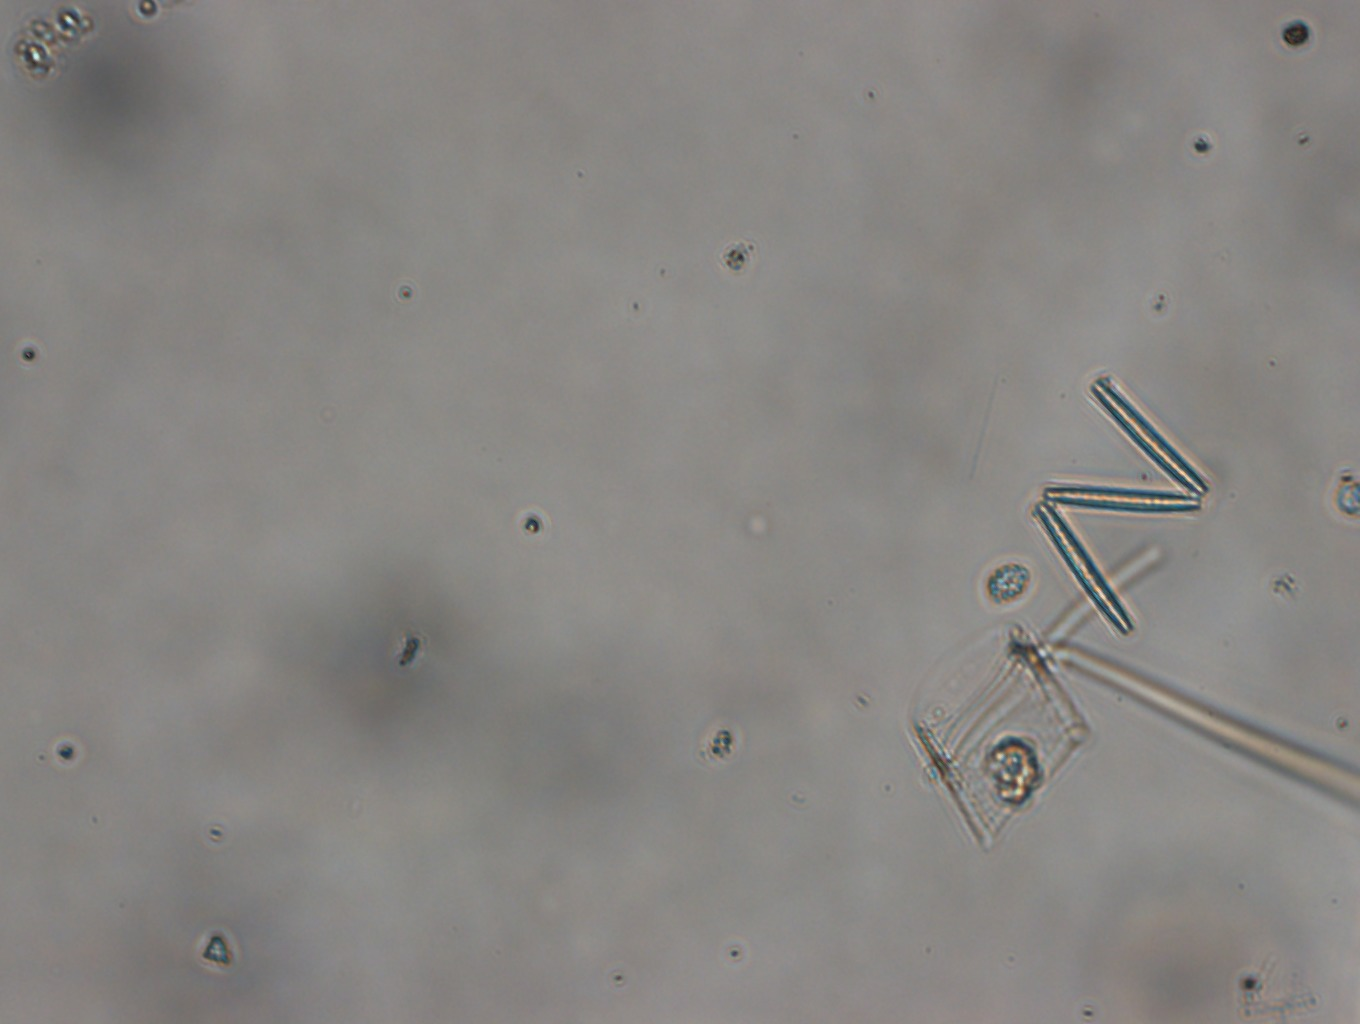thalassionema nitzschioides: (1023, 364, 1215, 638)
